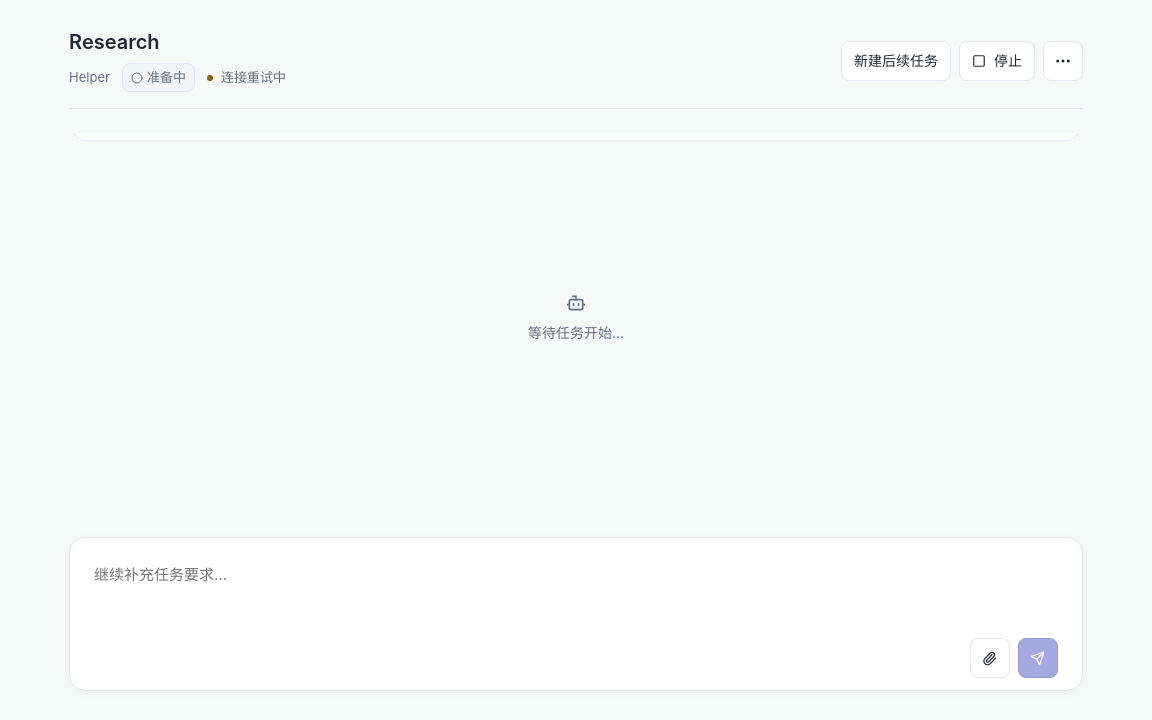
Test: B1 task page › requests interrupt for permitted initializing without claiming it stopped
(page scrolled)
Click the button with aria-label "停止任务".
click(997, 60)  # box [959, 40, 1035, 80]
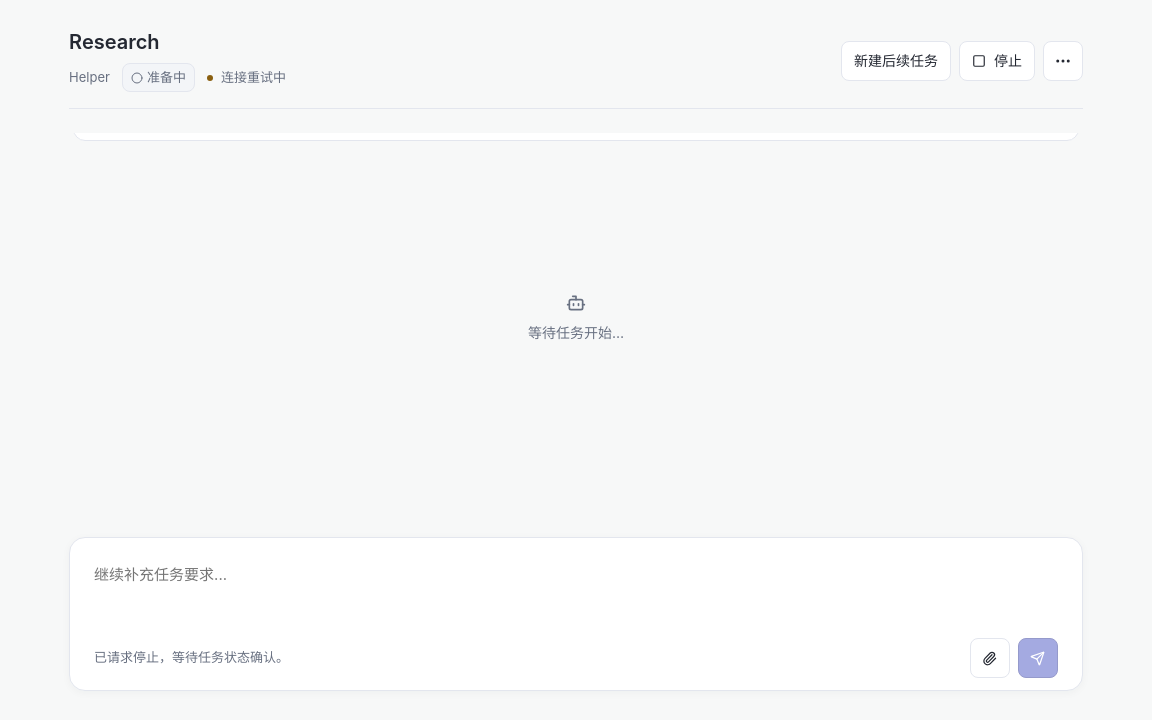
Check: the element with class "session-meta" does not show "已停止", box [69, 63, 286, 92]
Check: the text "已请求停止，等待任务状态确认。" is shown, box [94, 648, 289, 669]
